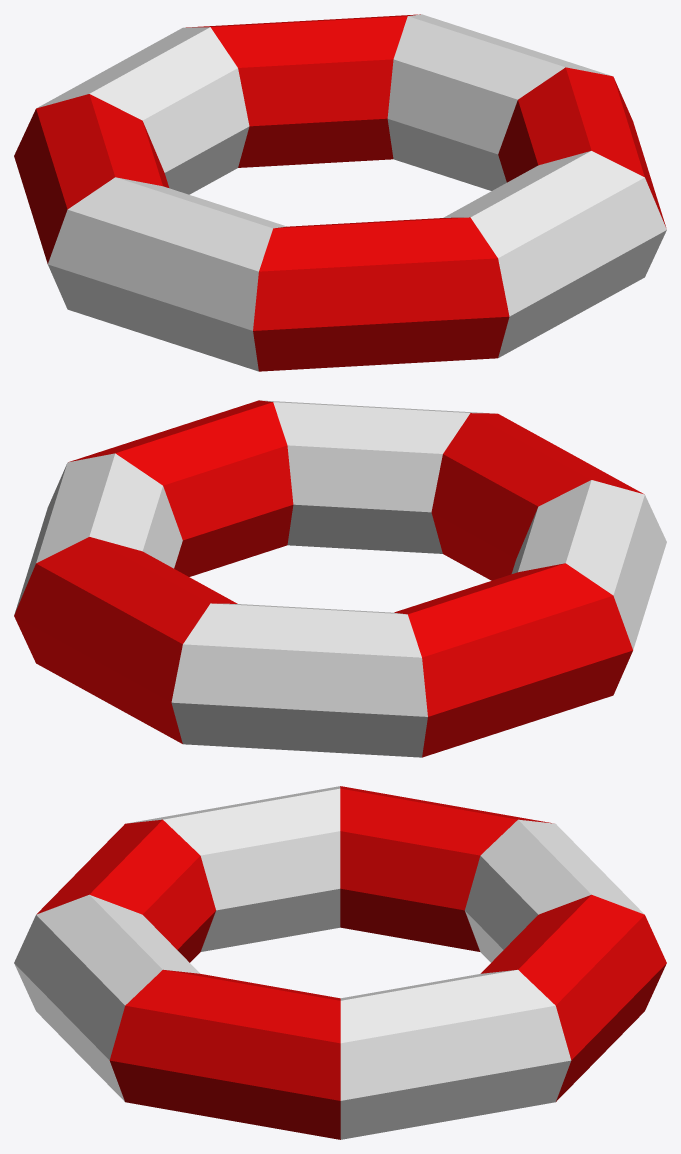
The model's file is life_bouy.fbx.
The picture shows the model from 3 angles, top to bottom: view 1: azimuth 30°, elevation 25°; view 2: azimuth 150°, elevation 25°; view 3: azimuth 270°, elevation 25°; orthographic projection. The views are drawn at different scales.
Visible parts, largest first — view 1: lifebouy; view 2: lifebouy; view 3: lifebouy.
Boxes of the visible parts, bbox=[...] form: lifebouy: bbox=[14, 14, 666, 371]; lifebouy: bbox=[14, 400, 666, 757]; lifebouy: bbox=[14, 786, 666, 1139].
Size of the model in its own units: 520 by 120 by 520.
